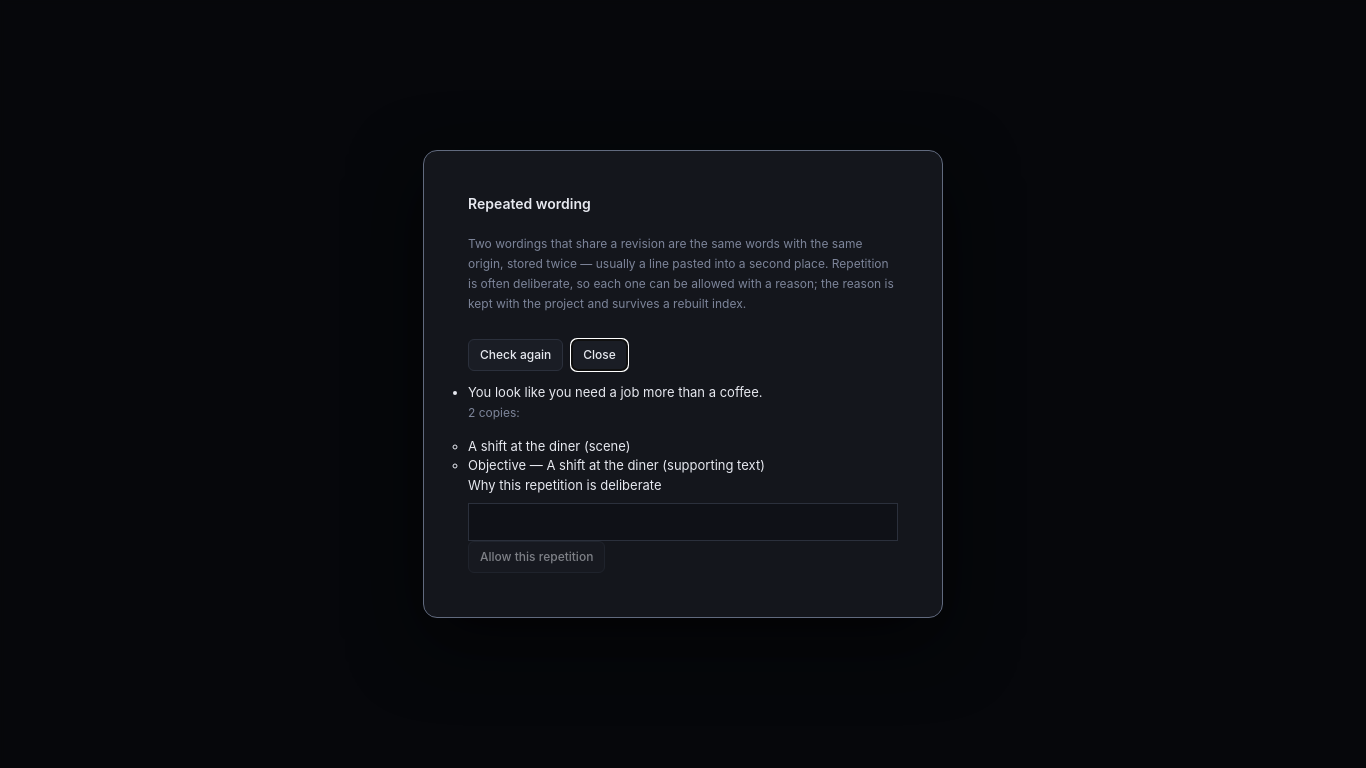
it: Repeated wording › will not allow a repetition without a reason, and sends the guard with the one it has
The width and height of the screenshot is (1366, 768).
Expected: the button "Allow this repetition" is disabled, [468,541,605,573]
Type "A deliberate refrain." into the field labelled "Why this repetition is deliberate" at (683, 522), box [468,503,898,541]
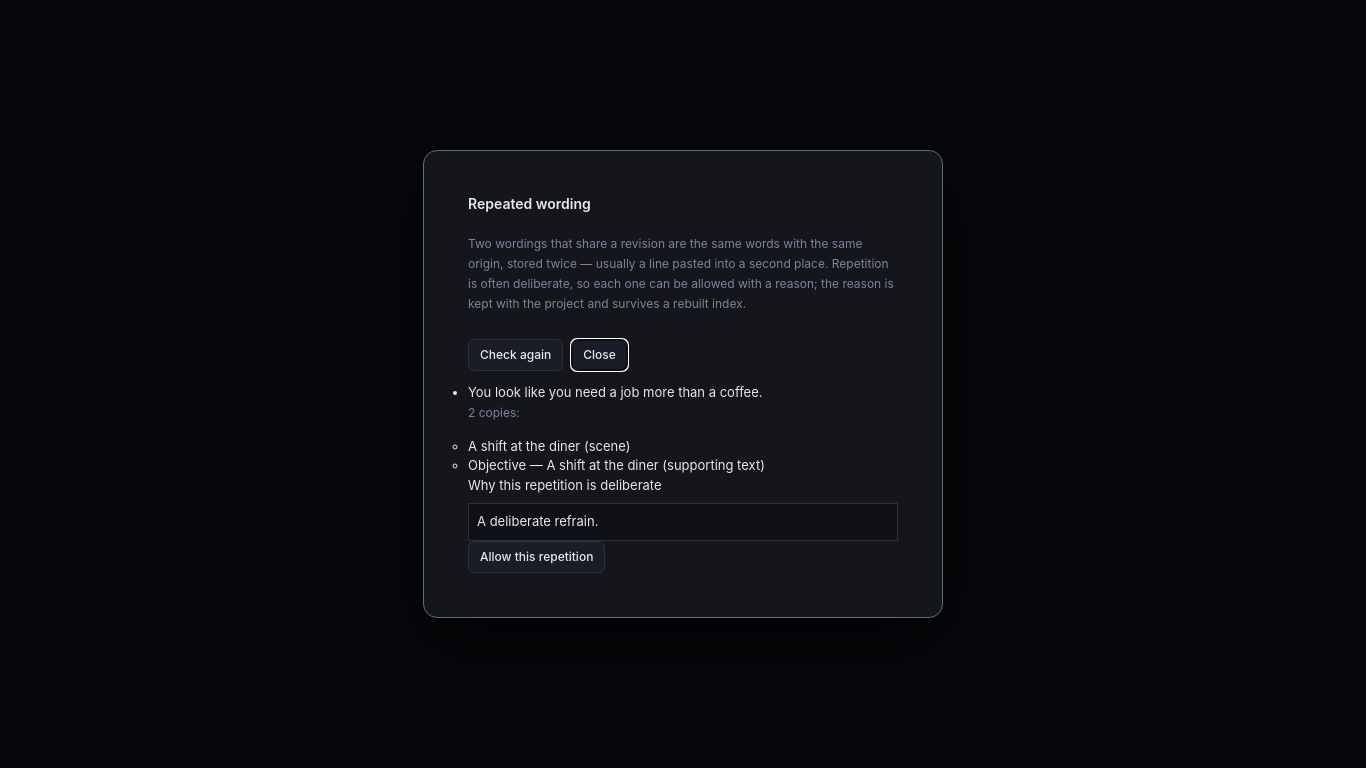
Click the button "Allow this repetition" at (537, 557), box [468,541,605,573]
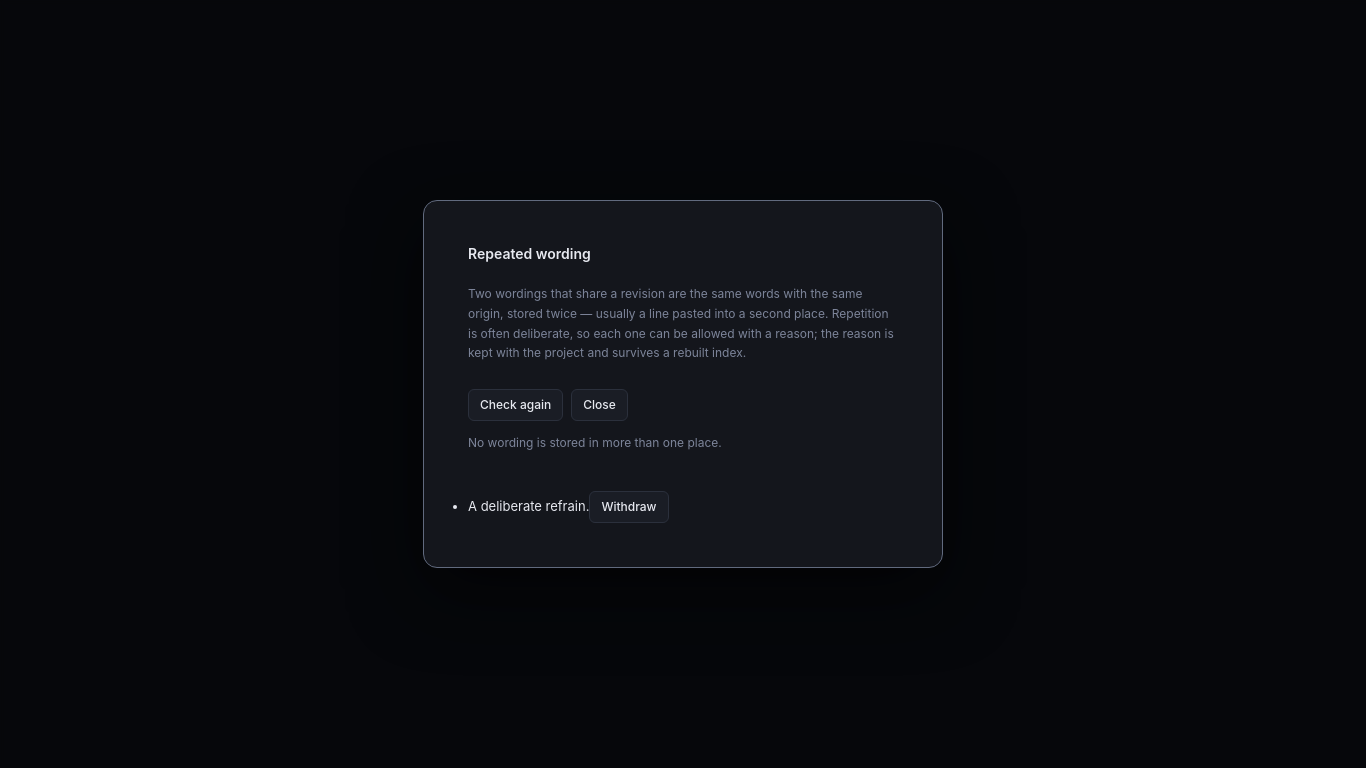
Now the list item "A deliberate refrain." is shown, box [468,498,589,514]
